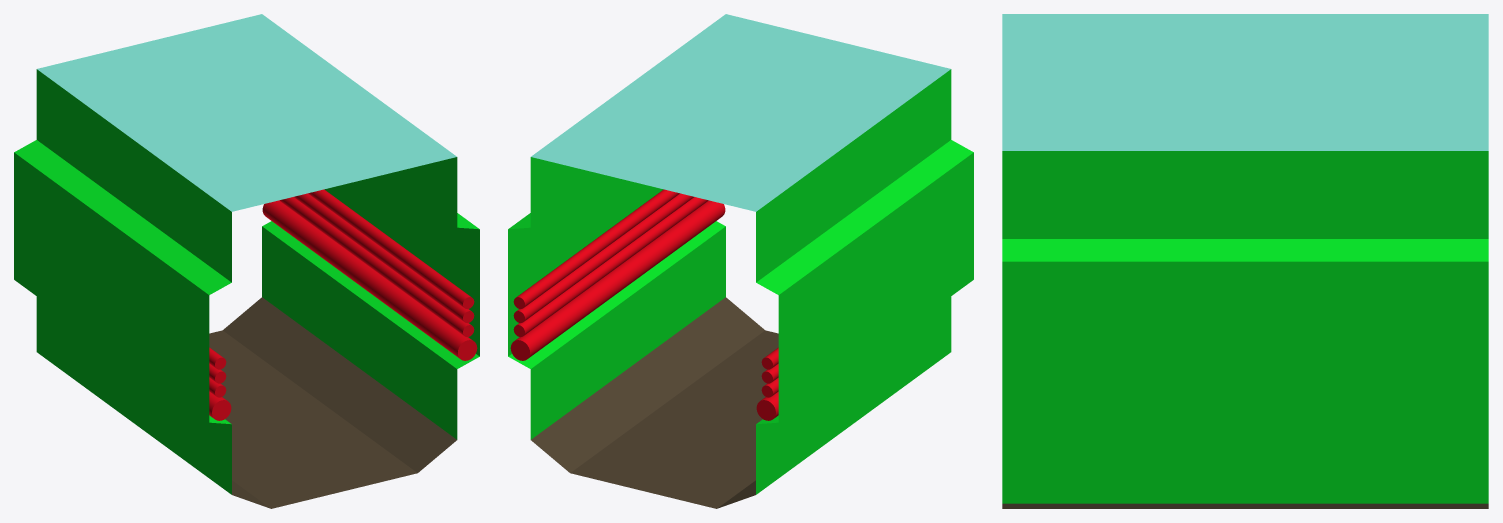
The model's file is Straight.fbx.
3 views of the same model, side by side, from view 1: azimuth 30°, elevation 25°; view 2: azimuth 150°, elevation 25°; view 3: azimuth 270°, elevation 25° (orthographic). The views are drawn at different scales.
Visible parts, largest first — view 1: Straight, Cylinder; view 2: Straight, Cylinder; view 3: Straight.
Boxes of the visible parts, x1,y1,x2,y2 form: Straight: (14,14,479,508); Cylinder: (209,189,477,420); Straight: (508,14,973,508); Cylinder: (510,189,778,420); Straight: (1002,14,1488,508).
Size of the model in its own units: 2.4 by 2.6 by 3.
